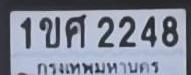1: (20, 16, 30, 48)
2: (118, 15, 135, 46), (97, 16, 113, 46)
4: (140, 15, 156, 46)
8: (161, 15, 177, 46)
A02: (39, 16, 59, 47)
A38: (65, 14, 85, 48)
BKK: (34, 59, 162, 75)
